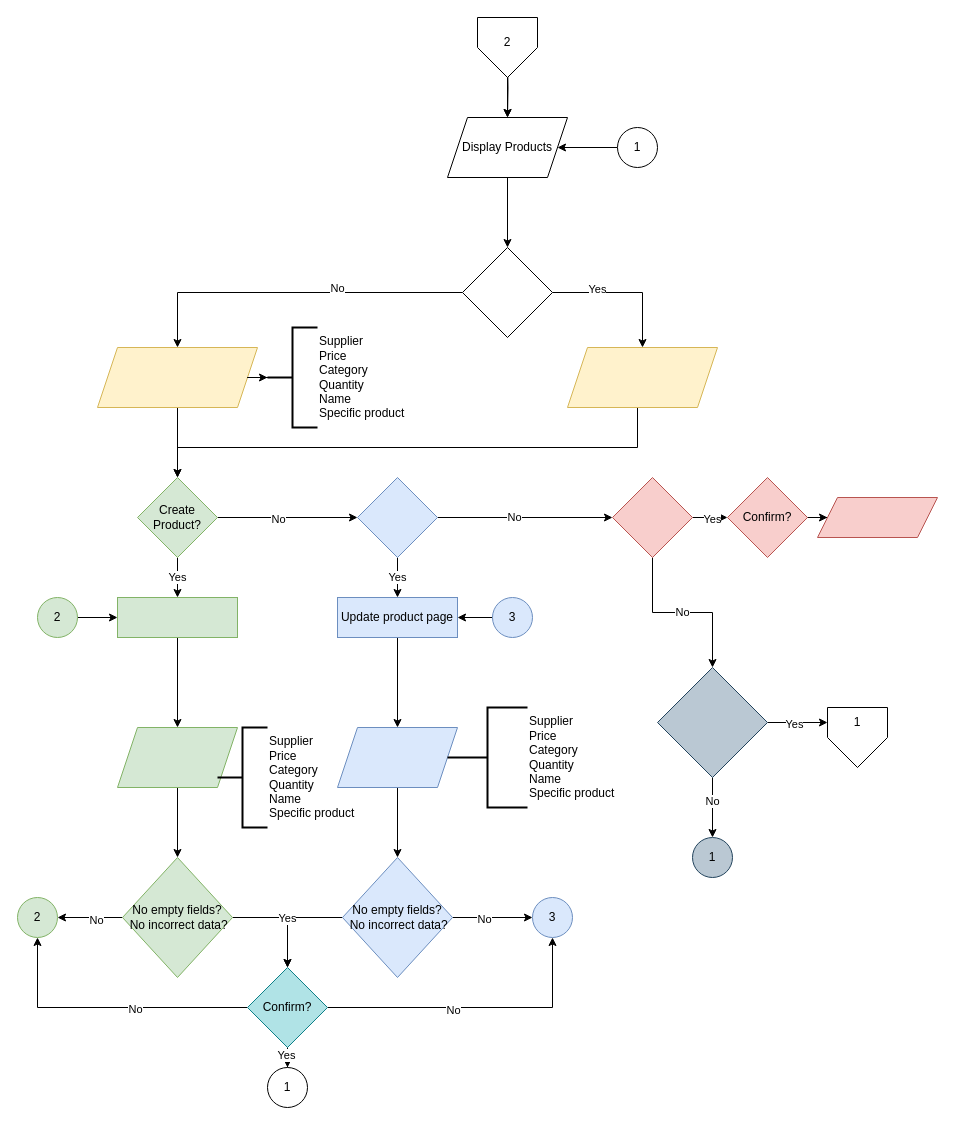
Image size: 955x1125. Some labels were removed from this diagram. The centre of each missing label's shape, as x and y in pixels:
Create product page: pixel 177 617
Delete Product?: pixel 652 517
Display all products with no filter: pixel 177 377
Display filtered products: pixel 642 377
Input product data: pixel 177 757
Modify product data: pixel 397 757
Order deleted: pixel 877 517
Return to home screen?: pixel 712 722
Select Search Filter Sort: pixel 507 292
Update Product?: pixel 397 517
